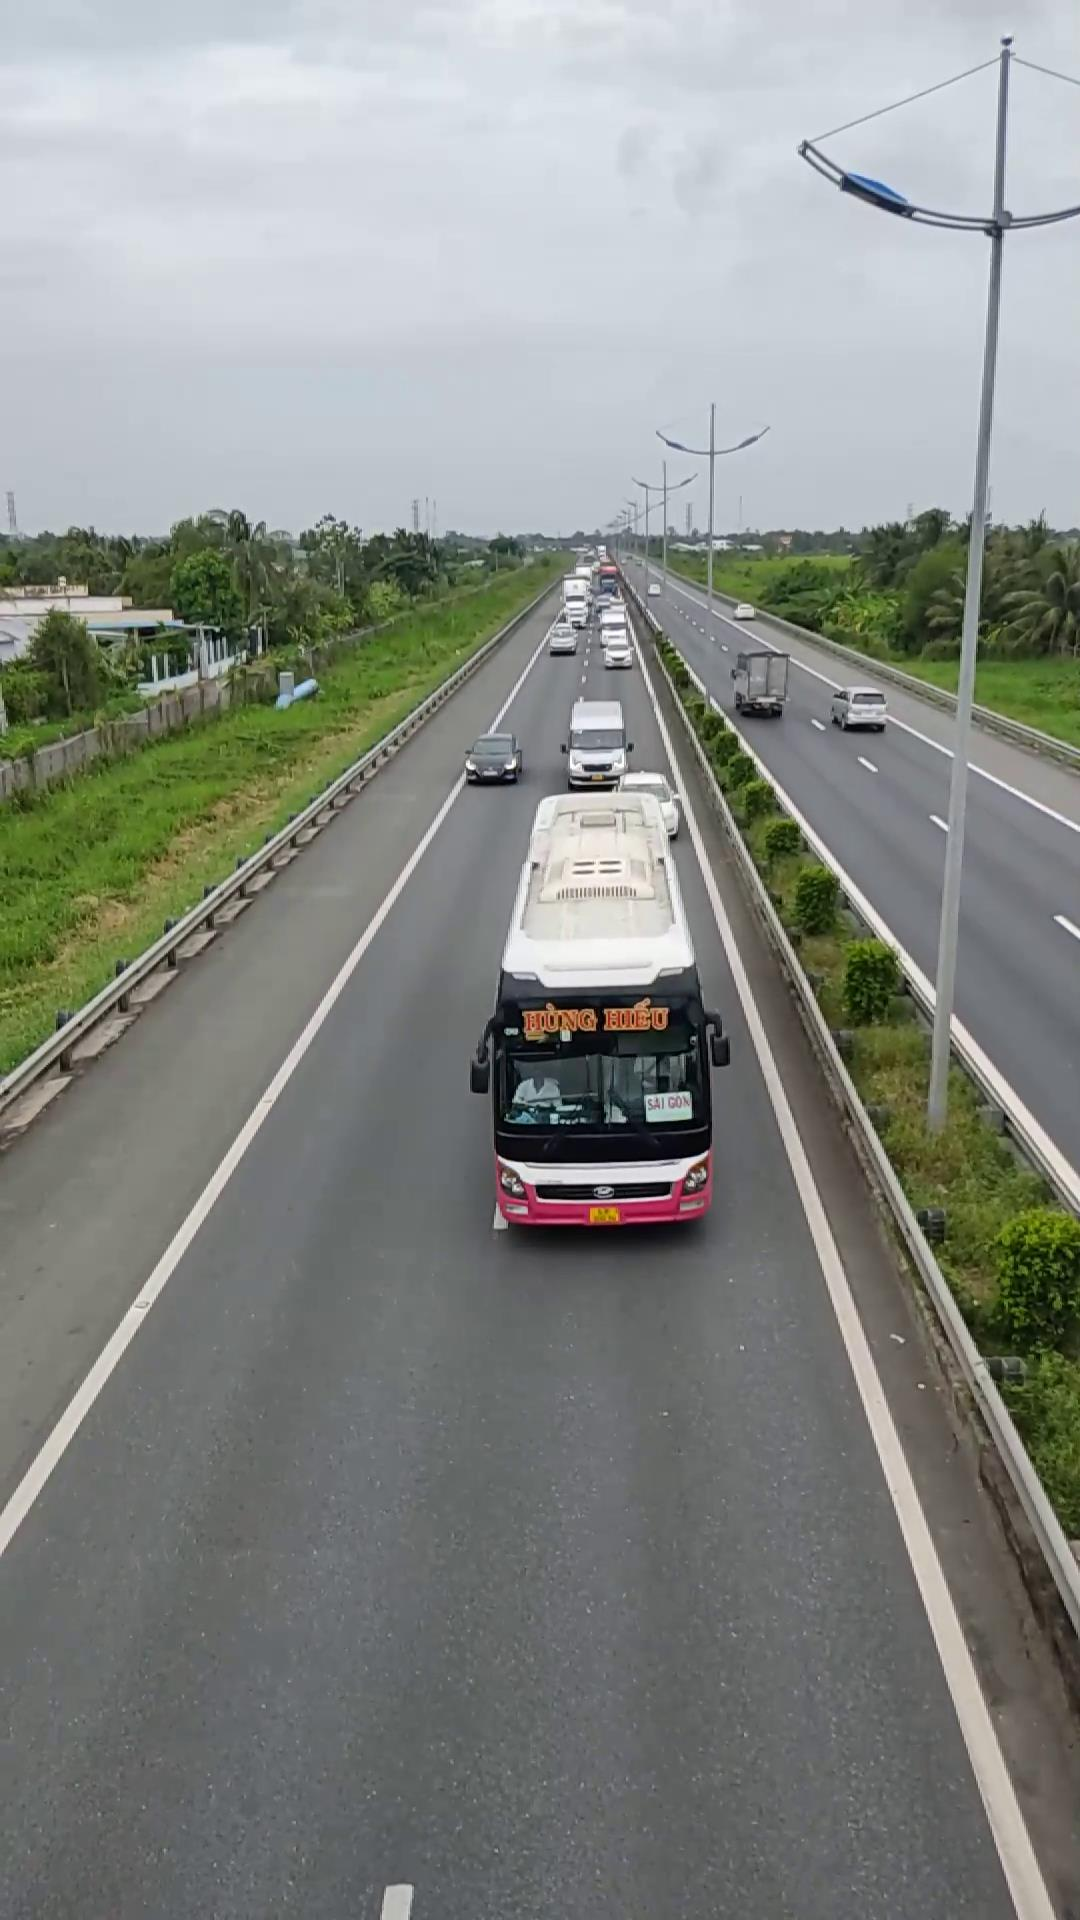bus: (470, 776, 726, 1235)
truck: (729, 644, 789, 716)
